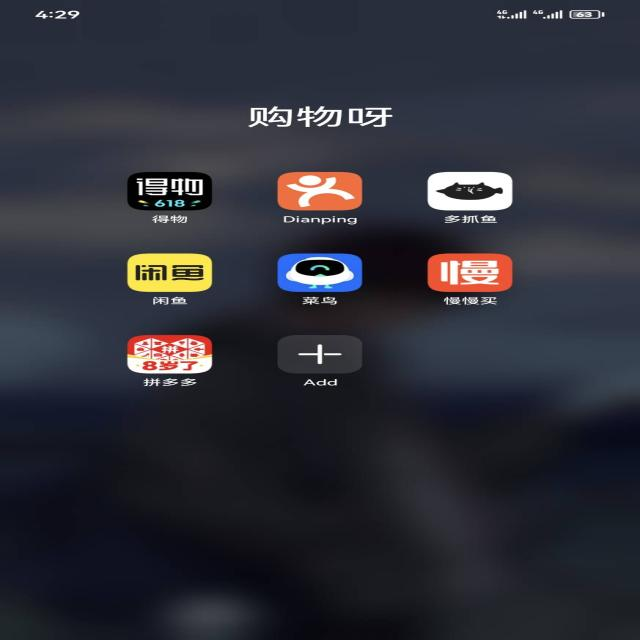Icon: (100, 172, 241, 214), (418, 250, 528, 294), (271, 169, 370, 212), (121, 332, 221, 374), (272, 332, 365, 376), (424, 174, 520, 212), (126, 254, 212, 292), (278, 254, 363, 292), (345, 285, 349, 286)
